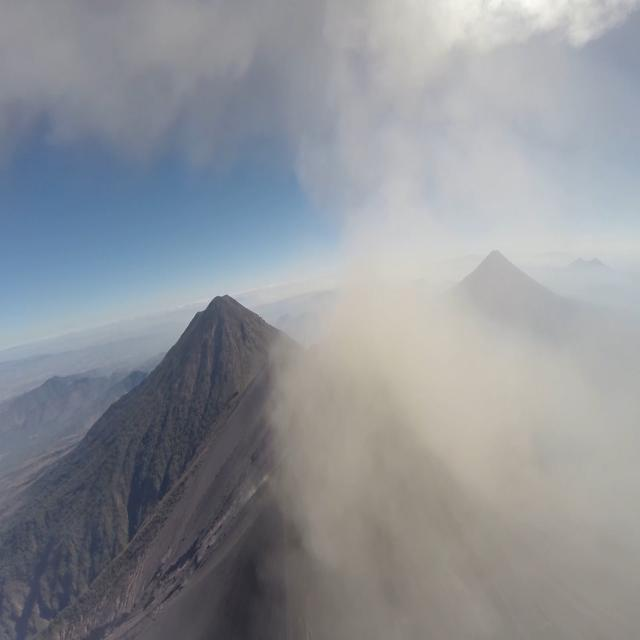Plume: (0, 2, 640, 240), (242, 241, 619, 640)
